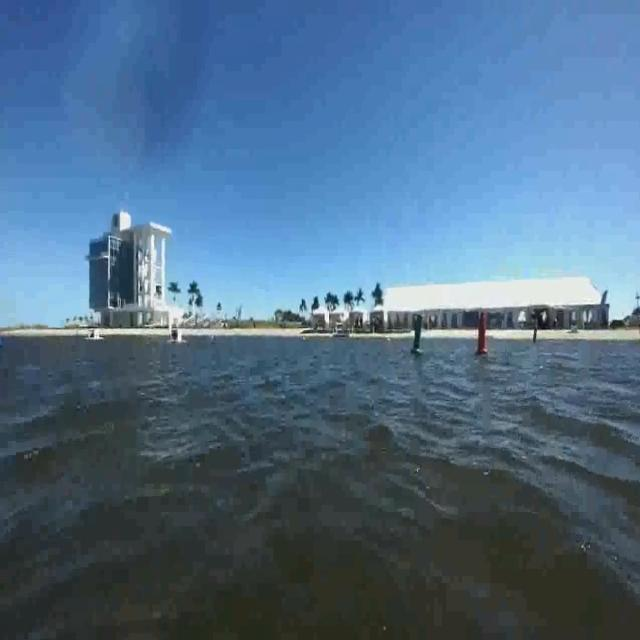green-column-buoy: (411, 306, 427, 356)
red-column-buoy: (472, 306, 494, 359)
